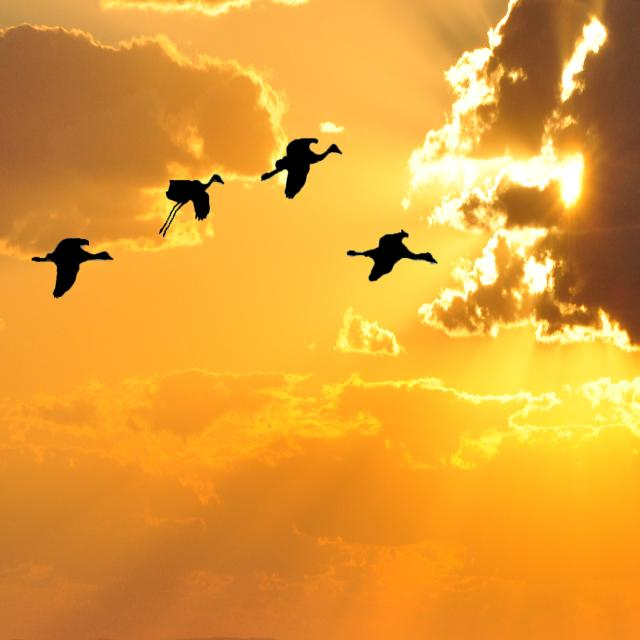bird: (258, 140, 347, 201), (33, 238, 114, 302), (348, 230, 442, 285), (156, 174, 227, 238)
